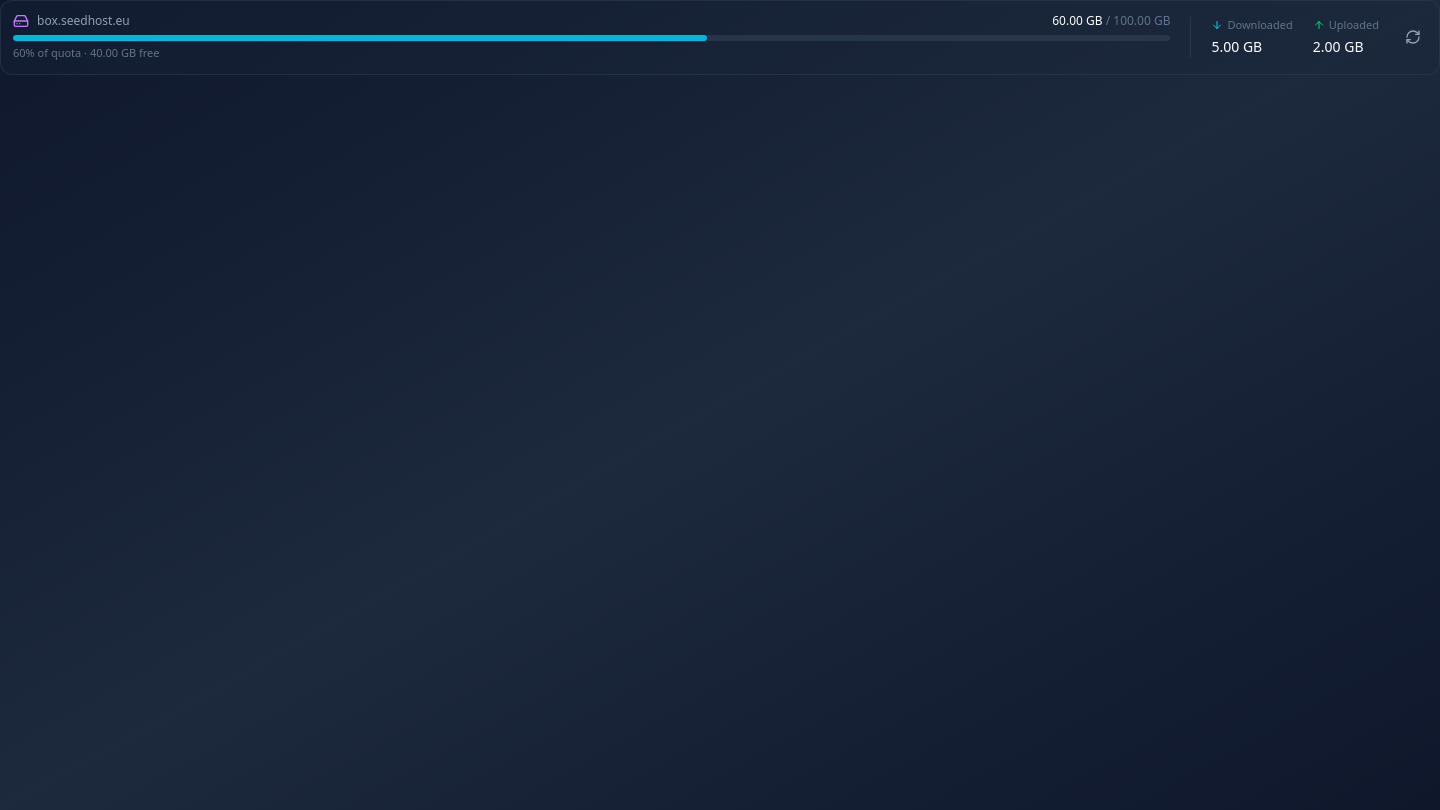
Test: VpsUsageBar - the details behind the chevron › refresh bypasses the cache and writes the fresh snapshot into the query
The image size is (1440, 810).
Check: the text "60.00 GB" is shown, box [1052,12,1102,29]
Click the button titled "Refresh usage": (1413, 37) [1399,23,1427,51]
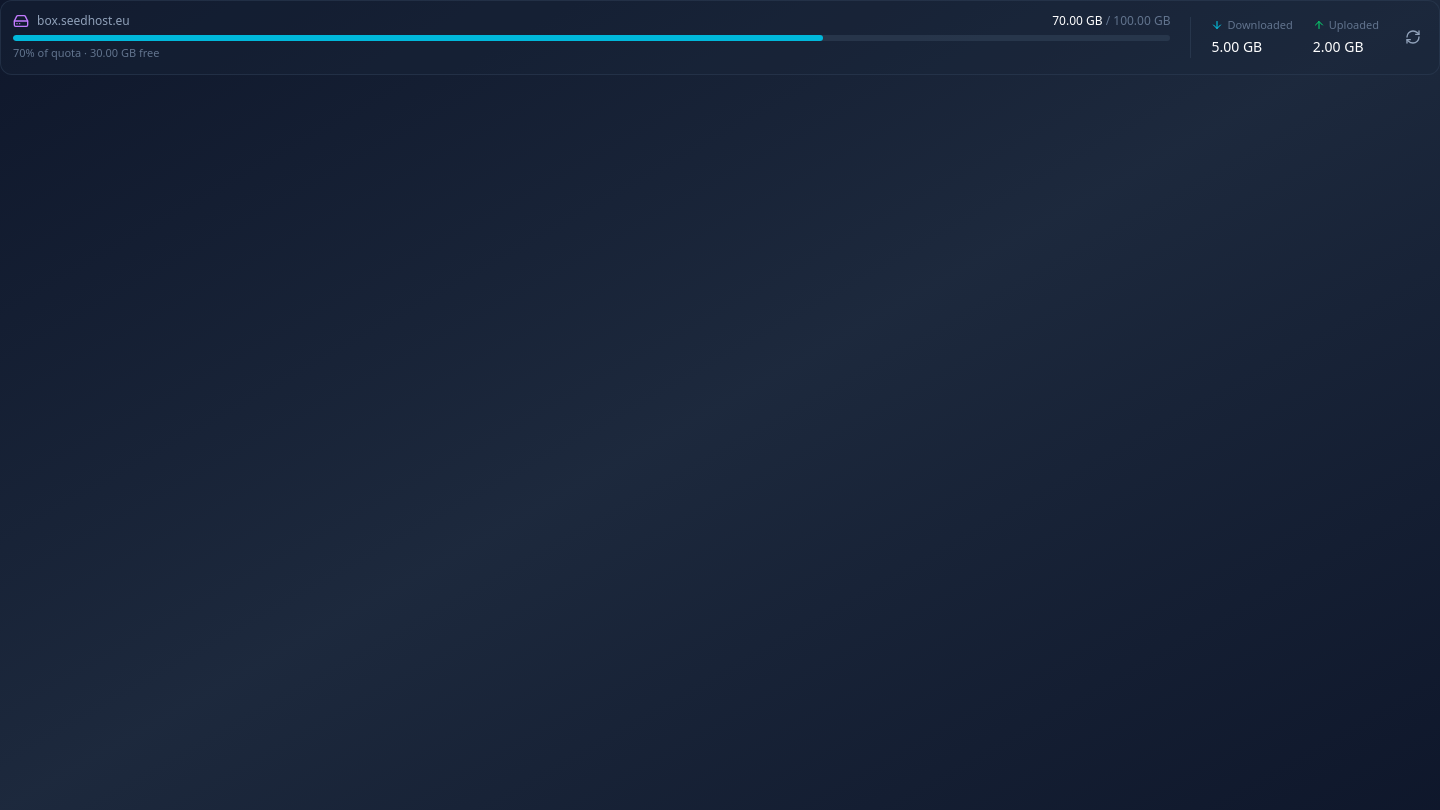
Check: the text "70.00 GB" is shown, box [1052,12,1102,29]
